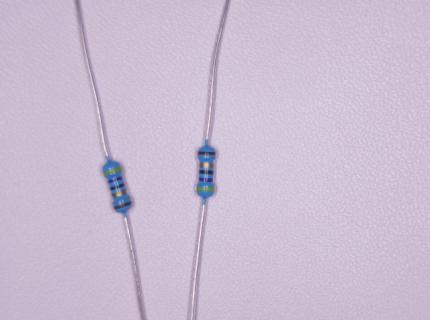Black band: (110, 183, 125, 191), (199, 170, 213, 174)
Brown band: (113, 200, 132, 210), (198, 151, 216, 155)
Gold band: (112, 189, 127, 198), (200, 162, 214, 168)
Violet band: (108, 175, 123, 183), (199, 177, 213, 182)
Yellow band: (103, 166, 122, 175), (197, 187, 214, 191)
